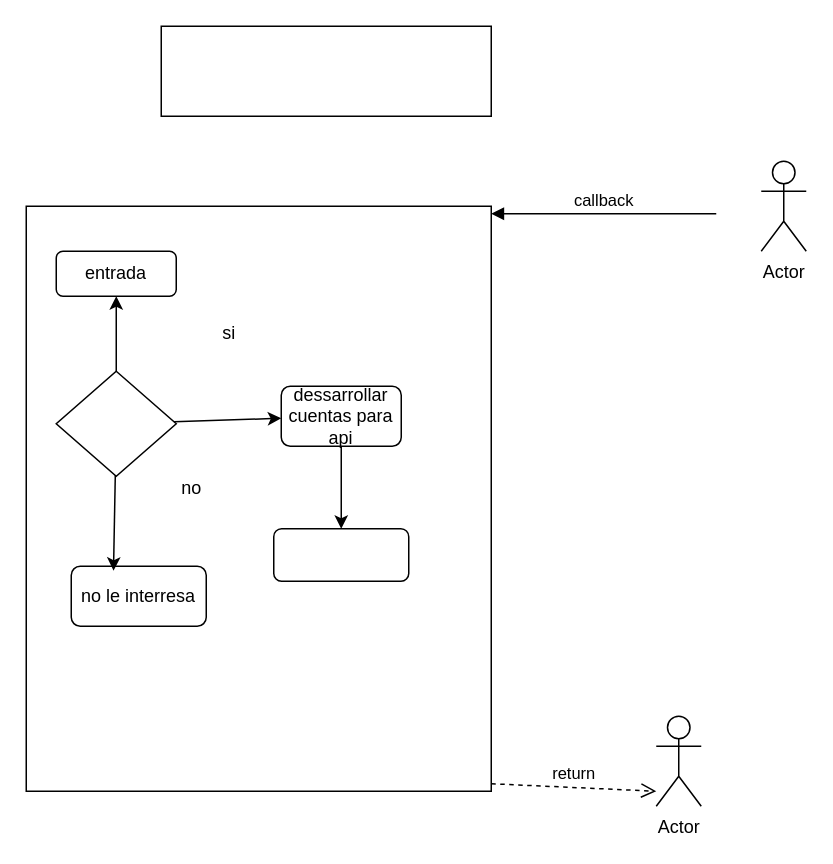
This 833x864 diagram has some shape labels left out. The box of each missing label's shape, as (x1, y1, x2, y2) in pixels:
login acceso con apps: (55, 370, 176, 476)
salida: (272, 527, 409, 581)
tenis gucci: (160, 25, 491, 116)
